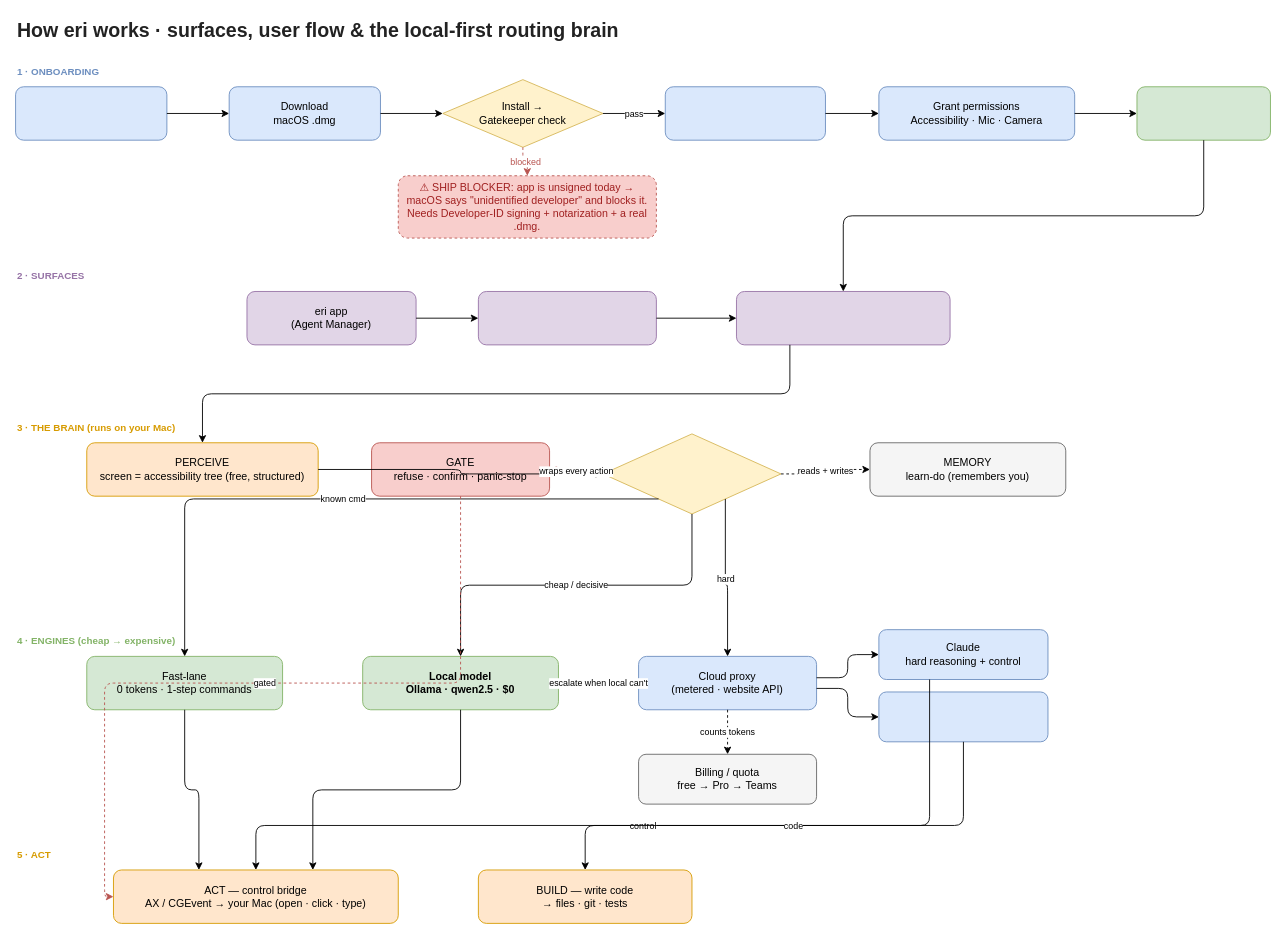
This 1286x939 diagram has some shape labels left out. Each missing label, with the centre of its shape:
eri CLI + sidecar (Rust) the engine that hosts the brain: (843,318)
eri IDE (VSCodium fork + panel): (566,318)
eri website (eri.dev): (91,113)
Mercury diffusion code edits: (963,716)
Ready to use: (1203,113)
ROUTE local-first router: (691,473)
Sign in (device auth → token): (744,113)
